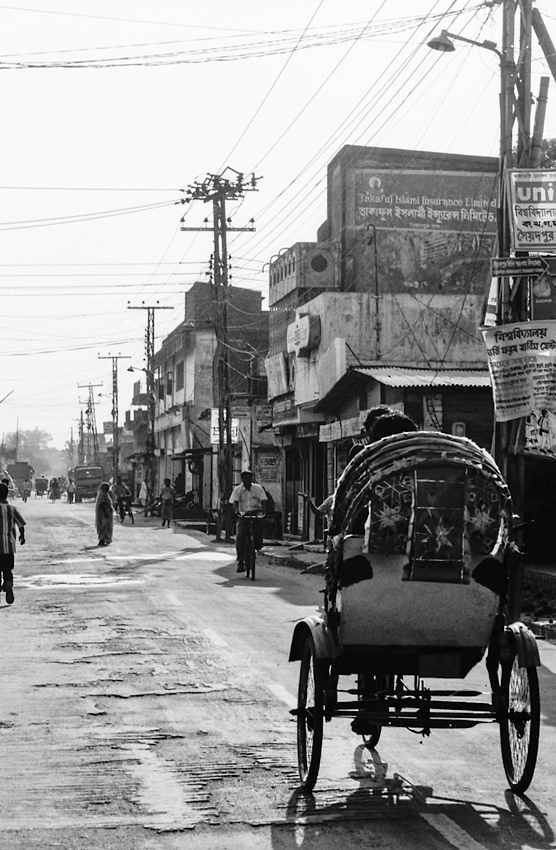Rickshaw: (299, 430, 546, 810)
